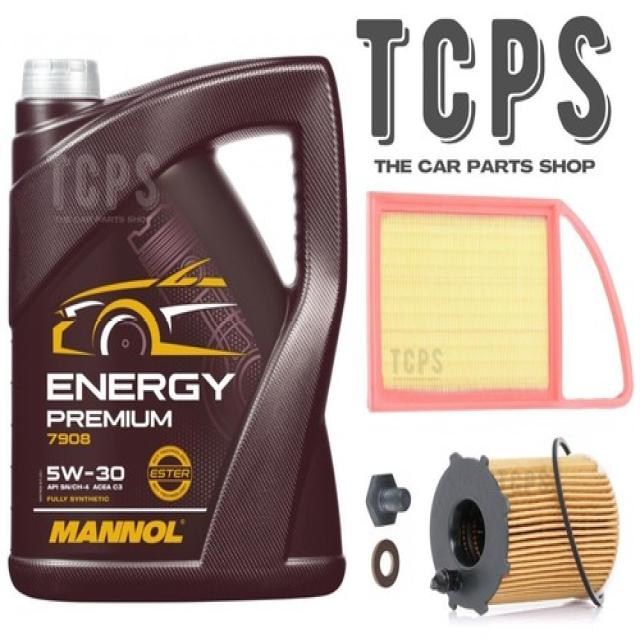air_filter: (366, 180, 637, 414)
motor_oil: (0, 41, 347, 608)
oil_filter: (428, 440, 622, 614)
